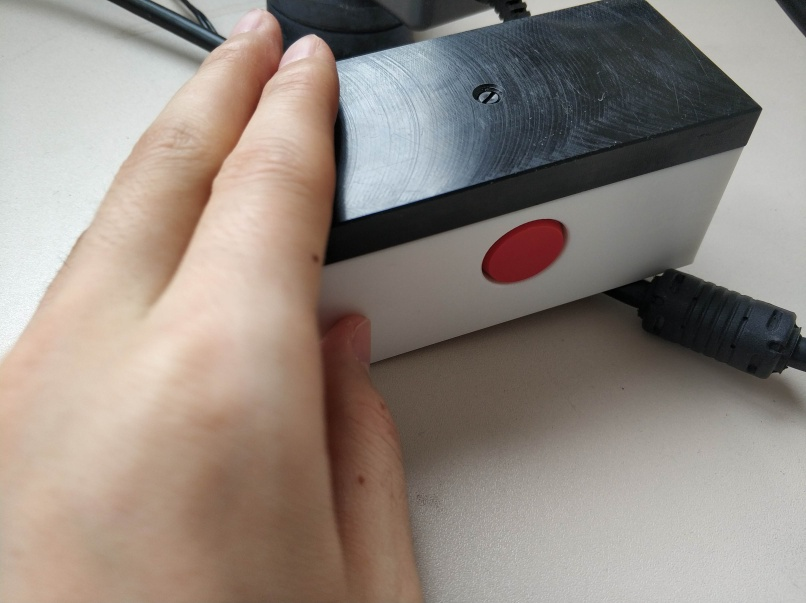black+white+red: (312, 1, 763, 370)
